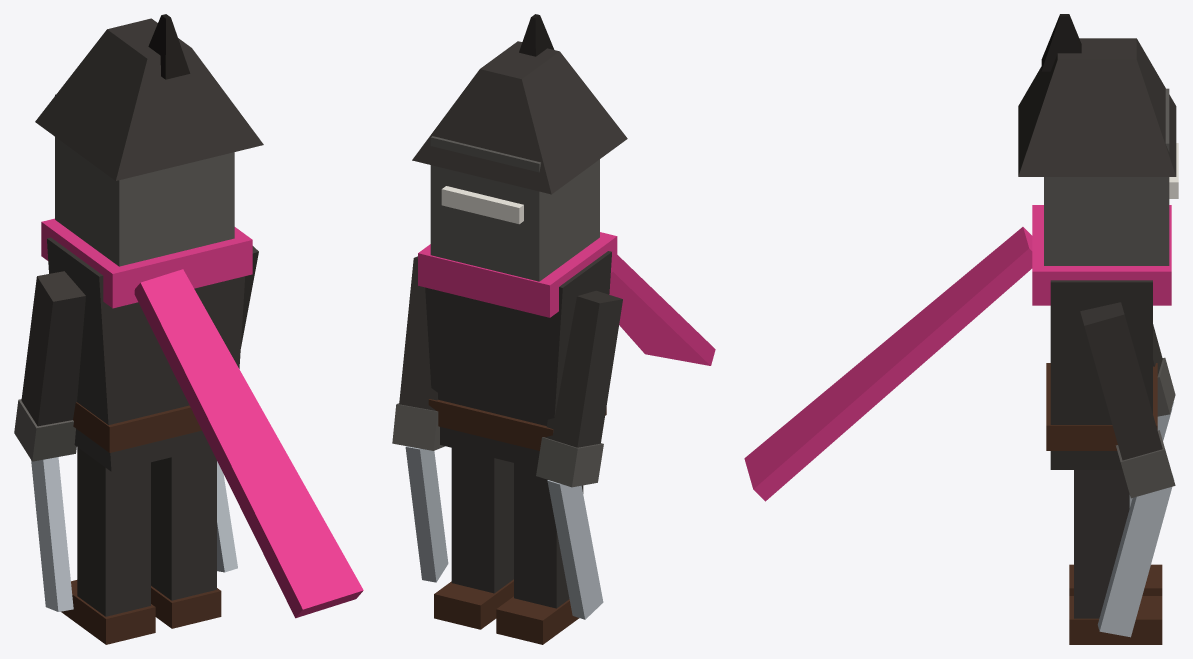
The model's file is EN_Assassin.fbx.
The picture shows the model from 3 angles, left to right: view 1: azimuth 30°, elevation 25°; view 2: azimuth 150°, elevation 25°; view 3: azimuth 270°, elevation 25°; orthographic projection. The views are drawn at different scales.
Parts seen in each view (by area): view 1: ScarfTail, Hood, Body, Head, LegL, LegR, ArmL, Scarf, DaggerL, Sash, FootL, FistL (+4 smaller); view 2: Body, Hood, Head, LegR, ArmL, Scarf, LegL, ScarfTail, DaggerL, DaggerR, ArmR, Sash (+6 smaller); view 3: Hood, ScarfTail, Head, Body, LegR, ArmR, DaggerR, Scarf, FootR, Sash, FistR, HoodTip (+2 smaller).
Boxes of the visible parts, <box> form: ScarfTail: <box>134,269,363,618</box>; Hood: <box>35,18,263,180</box>; Body: <box>47,237,245,471</box>; Head: <box>55,94,234,266</box>; LegL: <box>77,447,150,616</box>; LegR: <box>151,448,216,600</box>; ArmL: <box>21,271,85,426</box>; Scarf: <box>41,218,252,308</box>; DaggerL: <box>31,457,73,611</box>; Sash: <box>73,402,201,452</box>; FootL: <box>61,580,155,644</box>; FistL: <box>14,399,76,461</box>; Body: <box>425,251,611,468</box>; Hood: <box>412,41,627,194</box>; Head: <box>430,136,599,281</box>; LegR: <box>451,448,513,593</box>; ArmL: <box>545,290,622,447</box>; Scarf: <box>418,232,617,317</box>; LegL: <box>514,463,583,608</box>; ScarfTail: <box>609,255,715,365</box>; DaggerL: <box>547,480,603,619</box>; DaggerR: <box>405,446,448,582</box>; ArmR: <box>399,256,437,410</box>; Sash: <box>428,399,606,450</box>; Hood: <box>1018,38,1176,176</box>; ScarfTail: <box>744,227,1032,501</box>; Head: <box>1044,88,1169,265</box>; Body: <box>1050,280,1152,469</box>; LegR: <box>1074,470,1129,618</box>; ArmR: <box>1080,302,1162,460</box>; DaggerR: <box>1097,473,1174,637</box>; Scarf: <box>1032,205,1171,305</box>; FootR: <box>1069,596,1162,644</box>; Sash: <box>1046,363,1157,450</box>; FistR: <box>1116,430,1175,498</box>; HoodTip: <box>1041,14,1081,71</box>.
Size of the model in its own units: 0.4998 by 0.9344 by 1.43.
